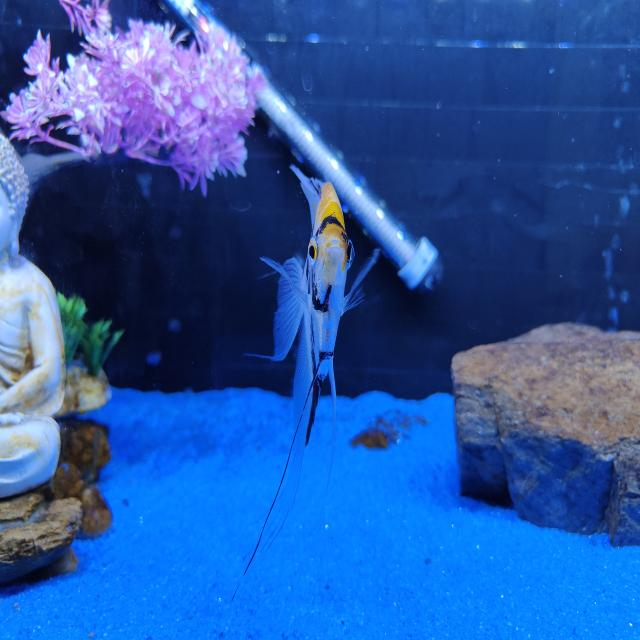Fish: (243, 165, 378, 574)
